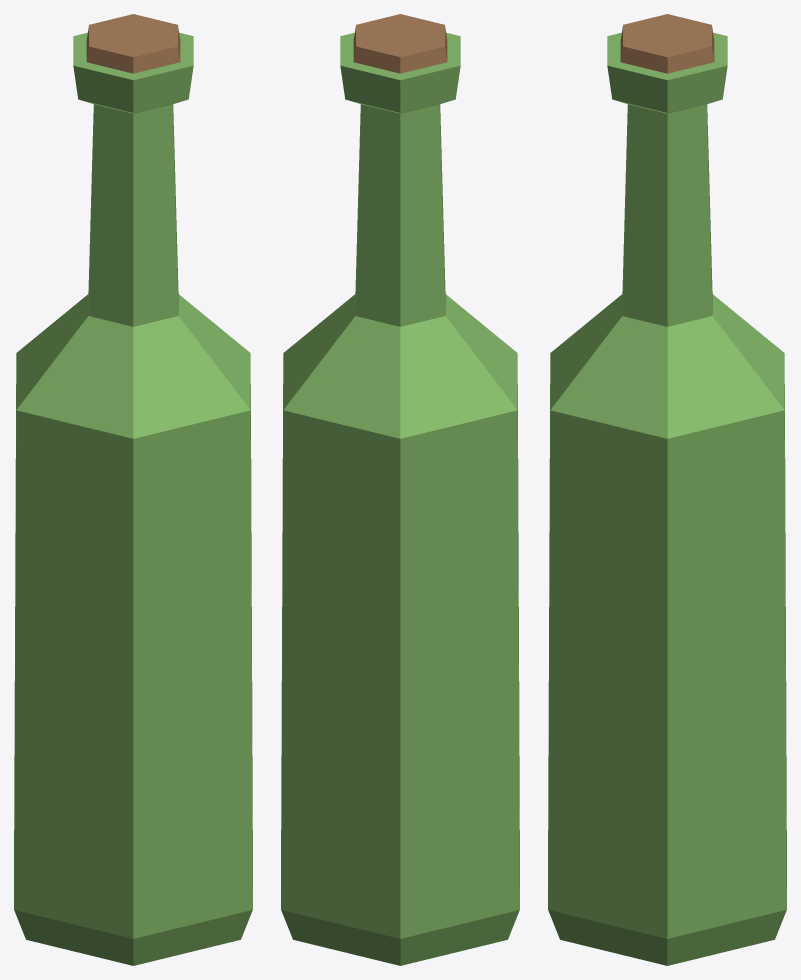
File: Green_Potion_14.fbx
3 renders of one model, left to right at view 1: azimuth 30°, elevation 25°; view 2: azimuth 150°, elevation 25°; view 3: azimuth 270°, elevation 25°, orthographic.
Parts seen in each view (by area): view 1: Green_Potion_14; view 2: Green_Potion_14; view 3: Green_Potion_14.
Part boxes in pixels (x1,y1,x2,y2): Green_Potion_14: (14, 14, 252, 965); Green_Potion_14: (281, 14, 519, 965); Green_Potion_14: (548, 14, 786, 965).
Bounding box in the file's own units: 13.2 × 46.35 × 11.43.
